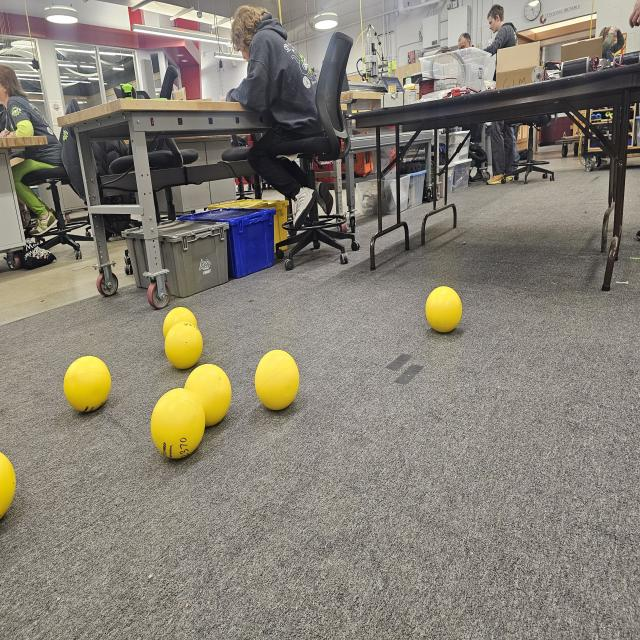Fuel: (150, 388, 205, 458), (63, 354, 111, 413), (254, 350, 300, 411), (186, 363, 230, 424), (165, 323, 203, 369), (426, 285, 462, 333), (163, 308, 195, 343)
